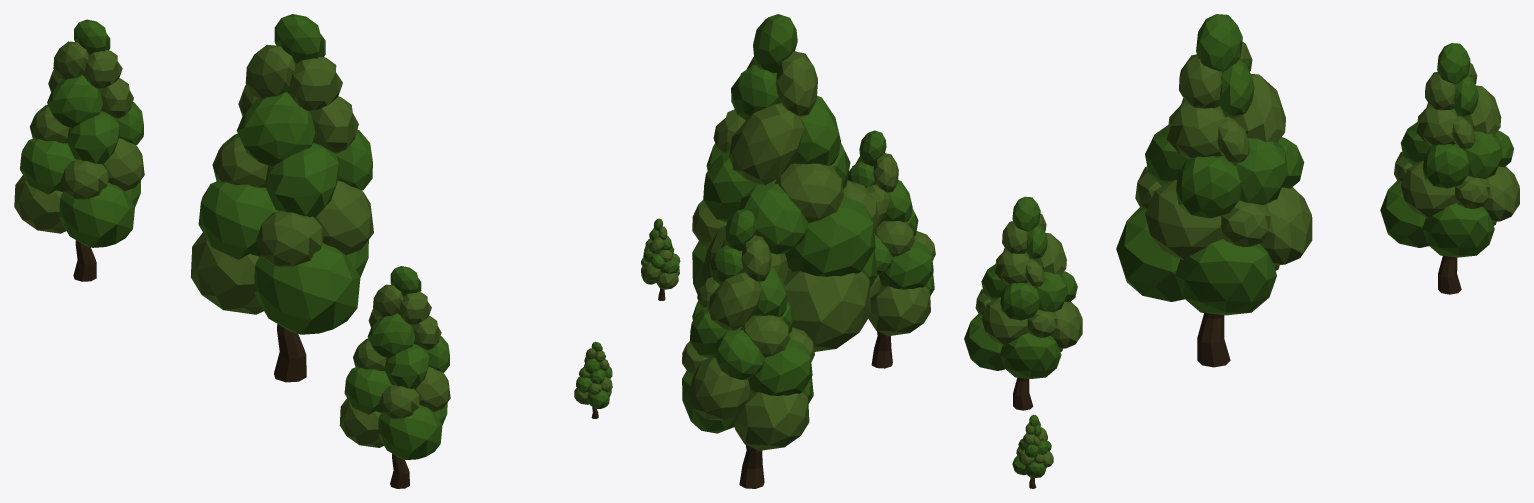
The model's file is decor19.obj.
3 renders of one model, left to right at view 1: azimuth 30°, elevation 25°; view 2: azimuth 150°, elevation 25°; view 3: azimuth 270°, elevation 25°, orthographic. The views are drawn at different scales.
Parts seen in each view (by area): view 1: Poplar_Cylinder.007, Poplar_Cylinder.008, Poplar_Cylinder.006, Poplar_Cylinder.009; view 2: Poplar_Cylinder.007, Poplar_Cylinder.008, Poplar_Cylinder.006, Poplar_Cylinder.009; view 3: Poplar_Cylinder.007, Poplar_Cylinder.008, Poplar_Cylinder.006, Poplar_Cylinder.009.
Boxes of the visible parts, x1,y1,x2,y2 form: Poplar_Cylinder.007: [191, 14, 373, 382]; Poplar_Cylinder.008: [14, 19, 144, 281]; Poplar_Cylinder.006: [339, 266, 450, 488]; Poplar_Cylinder.009: [574, 341, 612, 418]; Poplar_Cylinder.007: [692, 14, 879, 351]; Poplar_Cylinder.008: [682, 209, 814, 488]; Poplar_Cylinder.006: [847, 130, 935, 368]; Poplar_Cylinder.009: [641, 218, 680, 300]; Poplar_Cylinder.007: [1116, 14, 1312, 367]; Poplar_Cylinder.008: [1380, 43, 1519, 294]; Poplar_Cylinder.006: [964, 196, 1082, 410]; Poplar_Cylinder.009: [1012, 414, 1053, 488].
Size of the model in its own units: 2015 by 2066 by 2673.
